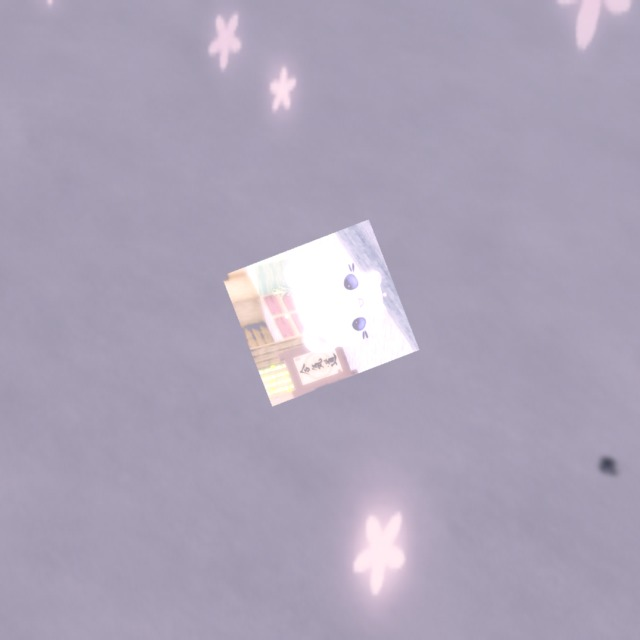urso_branco: (221, 219, 420, 407)
urso_preto: (593, 452, 627, 483)
